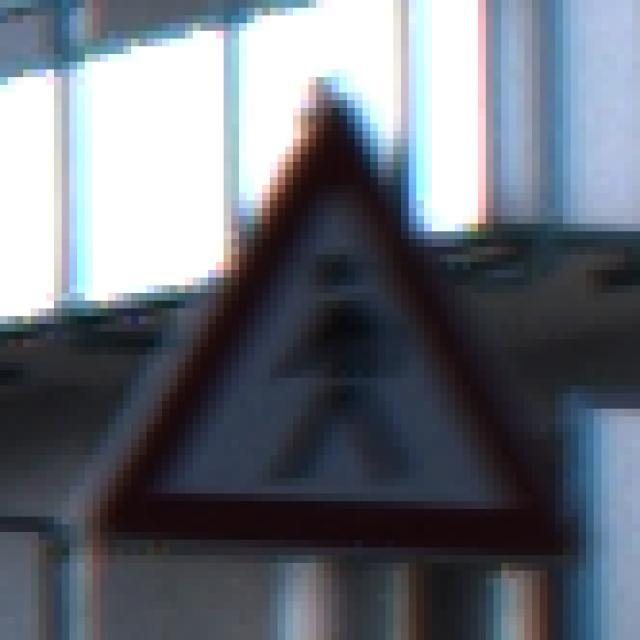pedestrian crossing: (63, 90, 589, 568)
